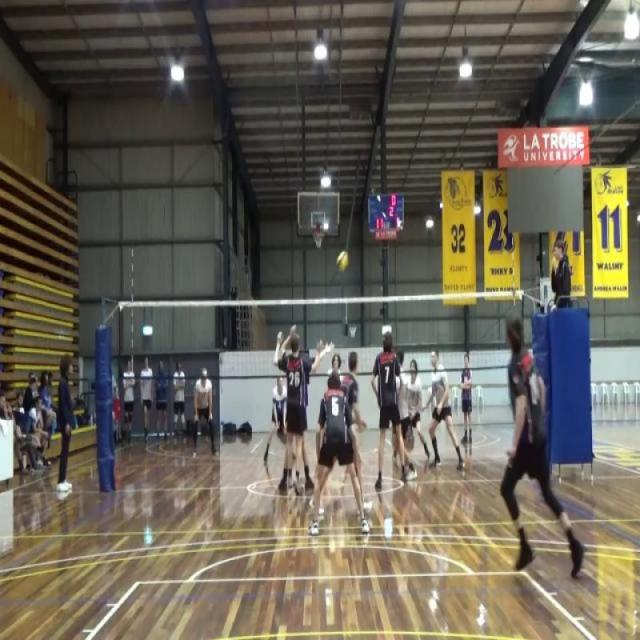volleyball: (334, 248, 350, 274)
